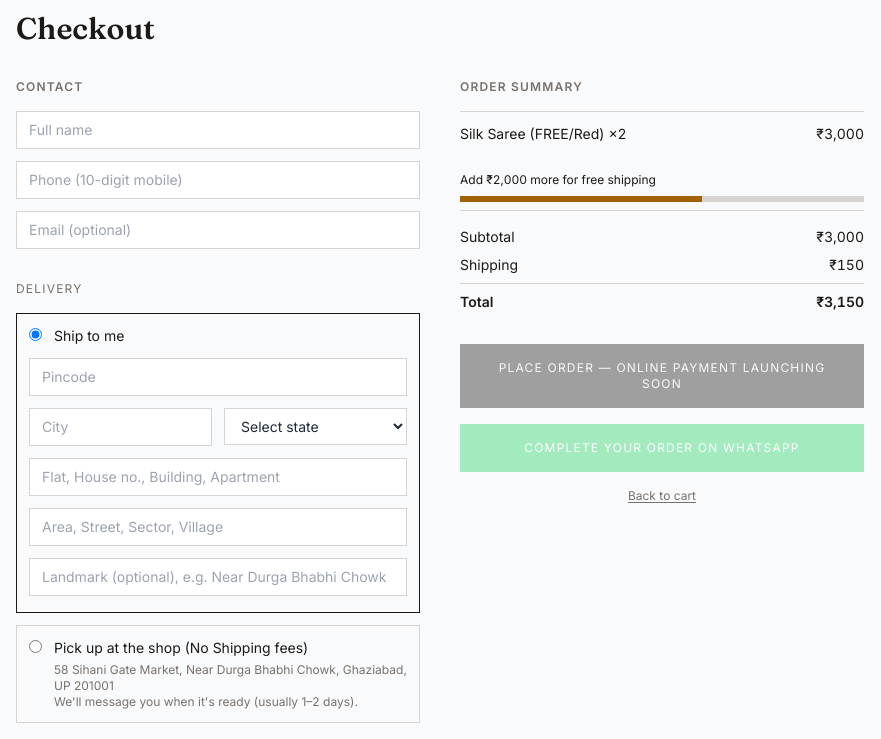
Test: labels flat-rate shipping as the standard rate
Type "Priya Sharma" into the field with placeholder "Full name" at [218, 130], box [16,111,420,149]
Type "9810873280" into the field with placeholder "Phone (10-digit mobile)" at [218, 180], box [16,161,420,199]
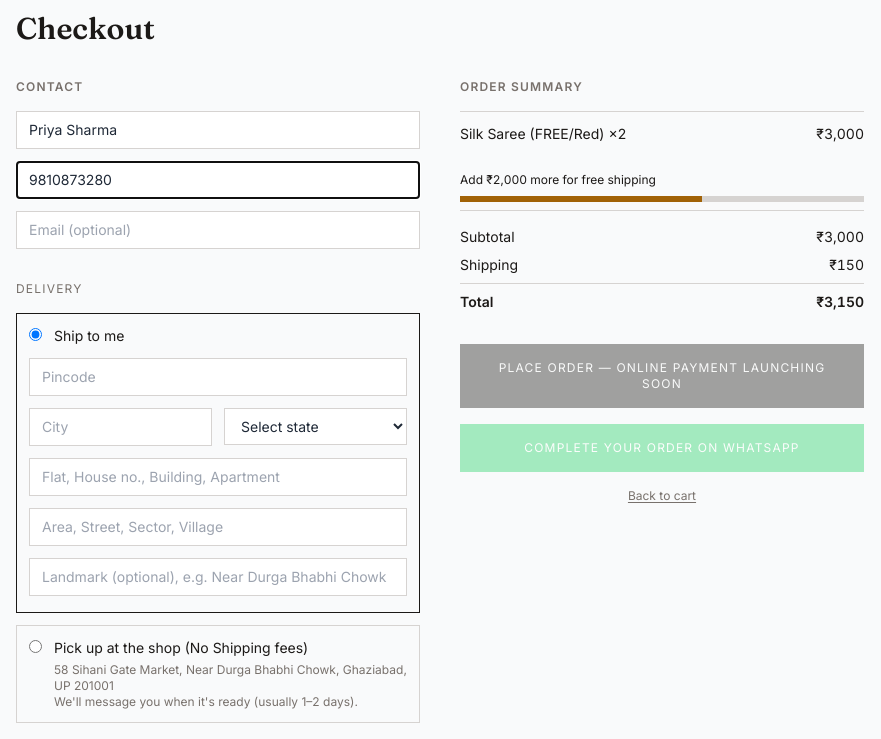
Type "201001" into the field with placeholder "Pincode" at [218, 377], box [29,358,407,396]
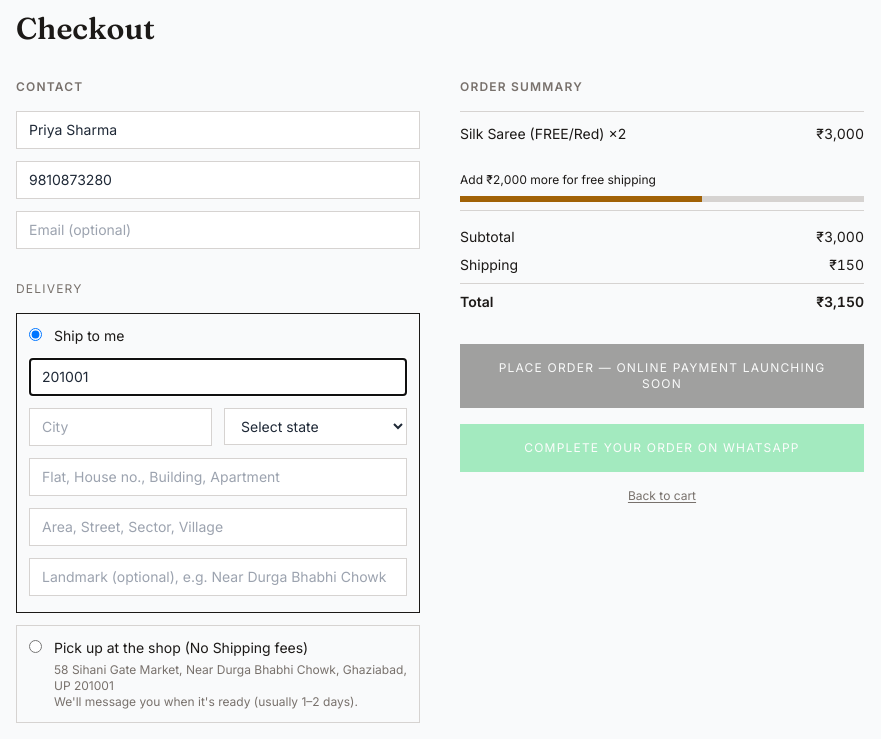
Type "58" into the field with placeholder "Flat, House no., Building, Apartment" at [218, 477], box [29,458,407,496]
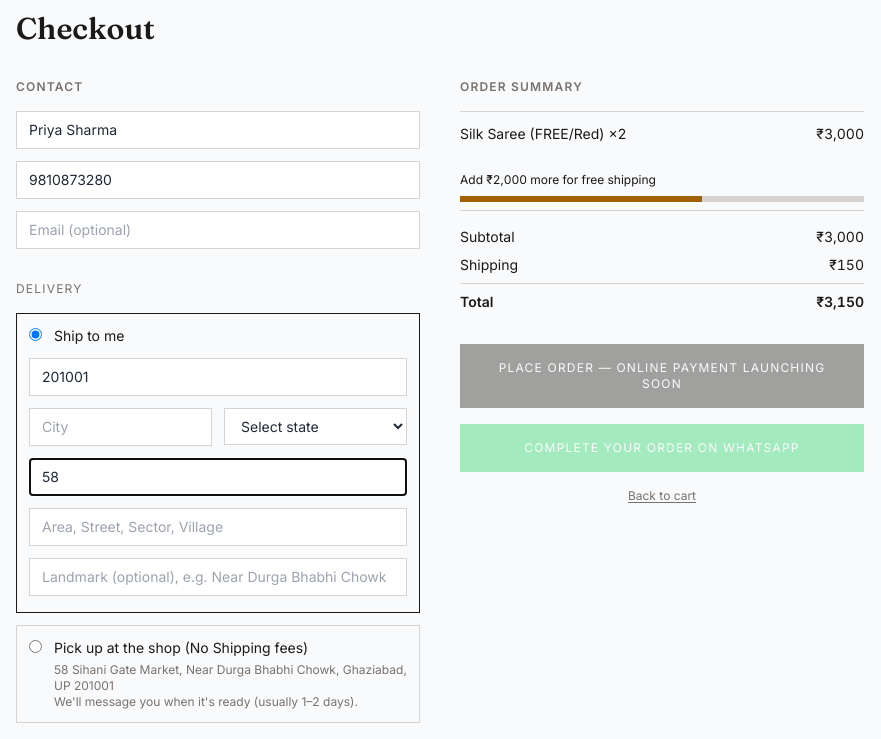
Type "Sihani Gate Market" into the field with placeholder "Area, Street, Sector, Village" at [218, 527], box [29,508,407,546]
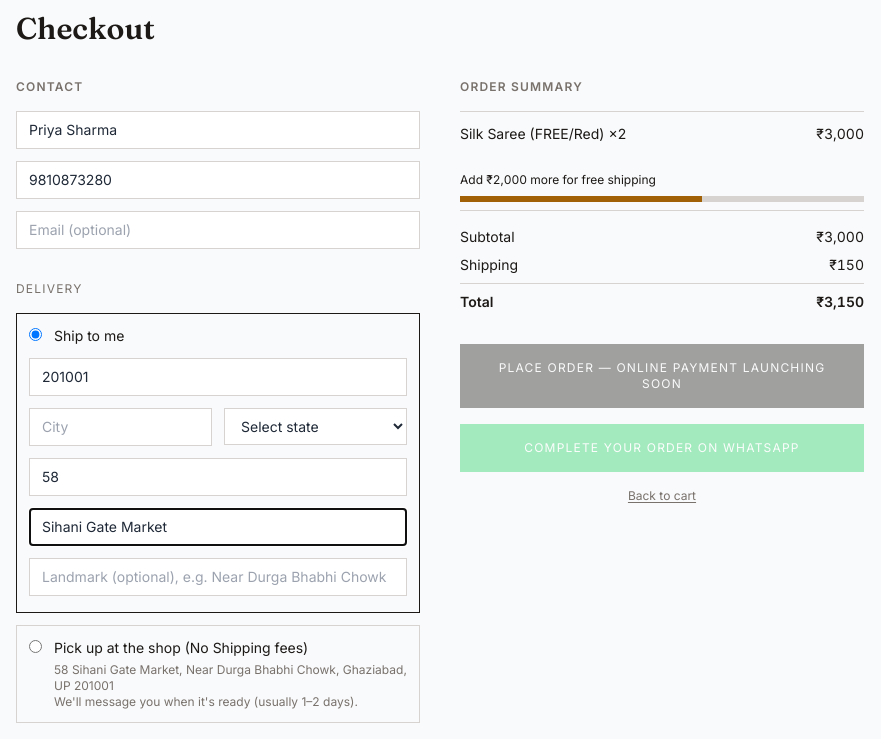
Type "Ghaziabad" into the field with placeholder "City" at [120, 427], box [29,408,212,446]
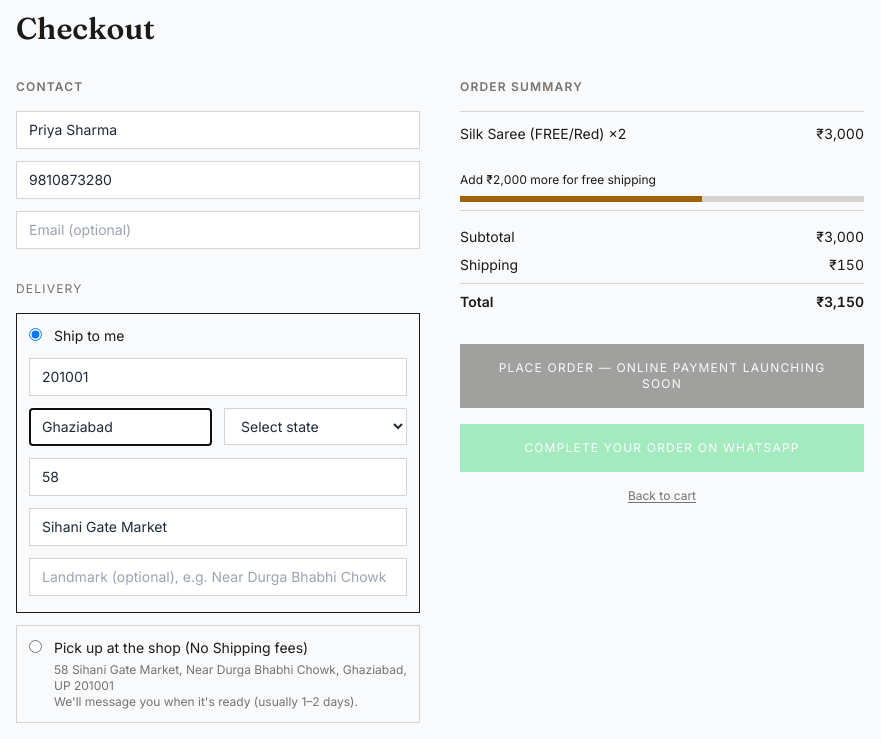
Select "Uttar Pradesh" in the dropdown at [316, 426], box [224,408,407,445]
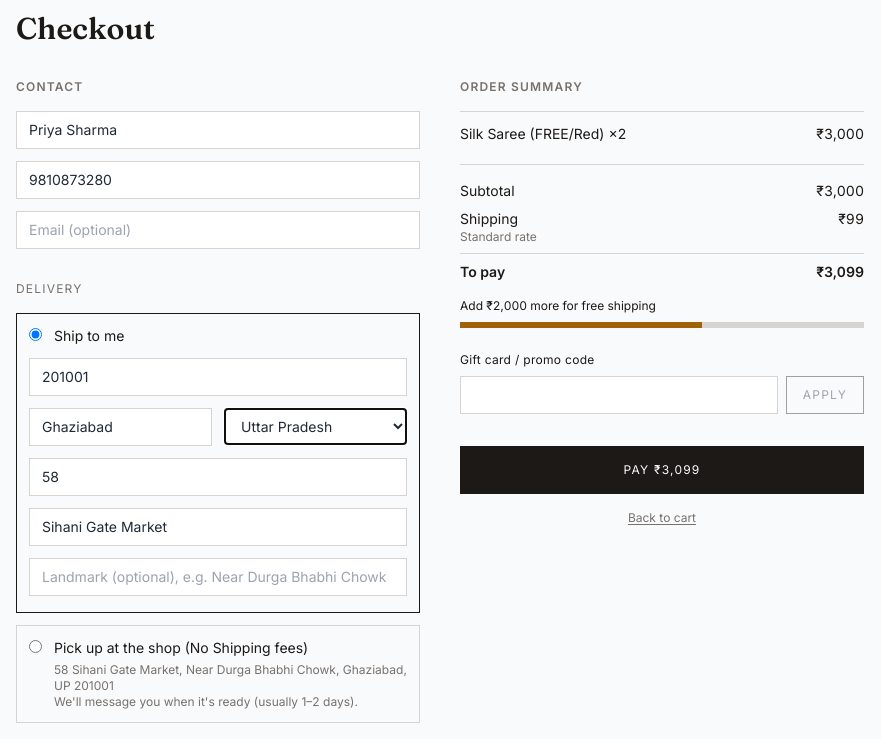
Expected: the text "Standard rate" is shown, [460,229,537,245]
Expected: the text with test id "quote-shipping" reads "₹99", [838,210,864,227]
